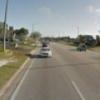cars: (40, 47, 52, 59), (76, 42, 87, 52)
